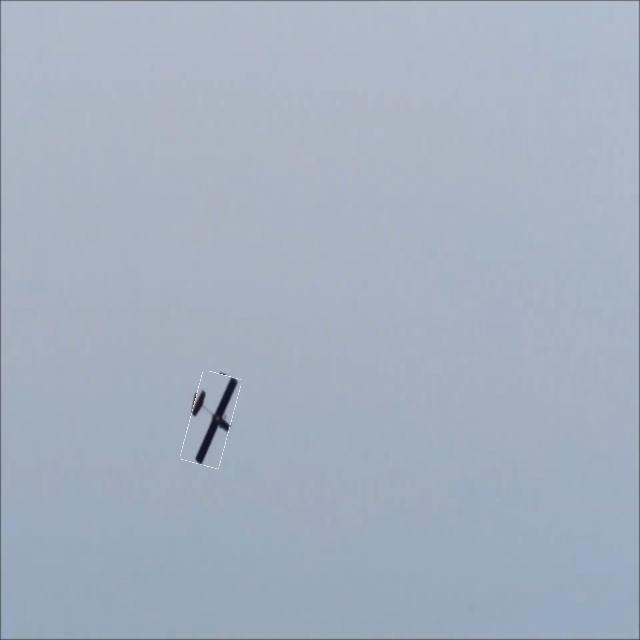iha: (179, 402, 240, 440)
